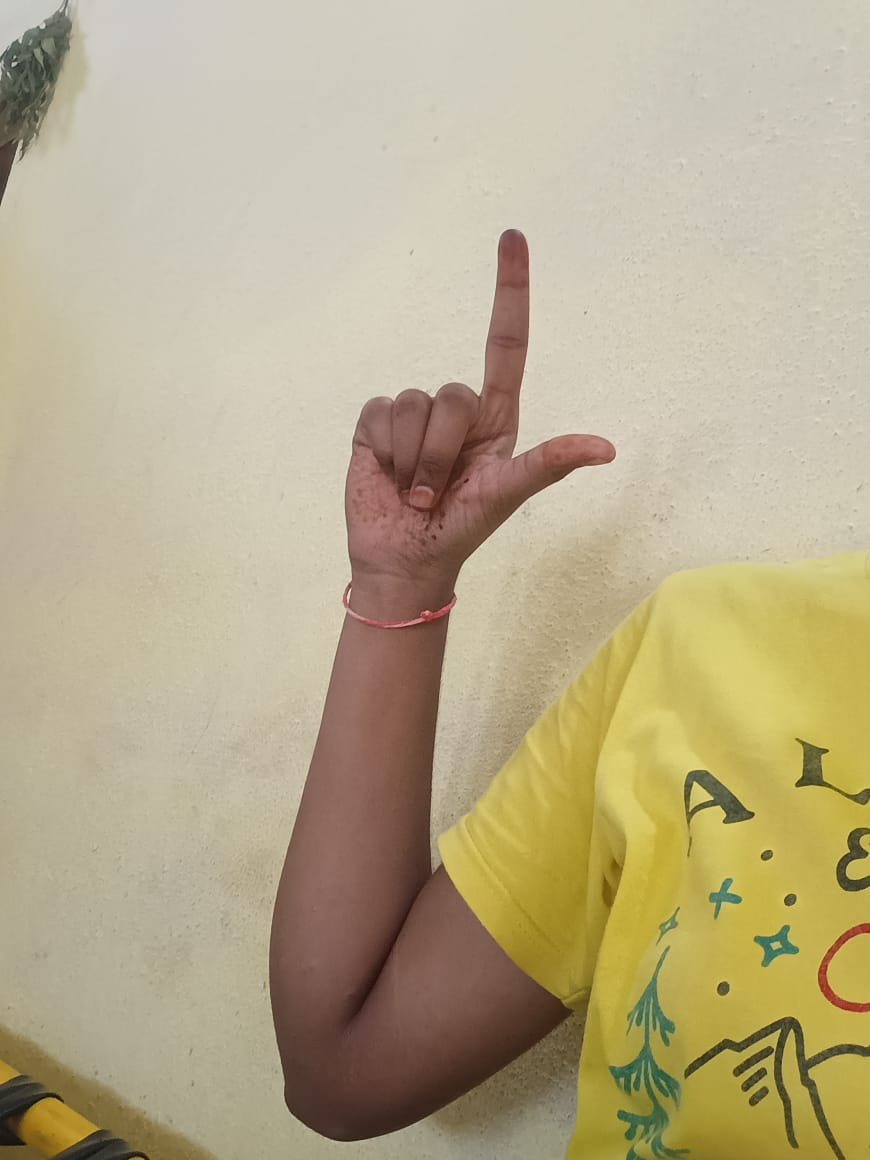L: (343, 230, 612, 557)
